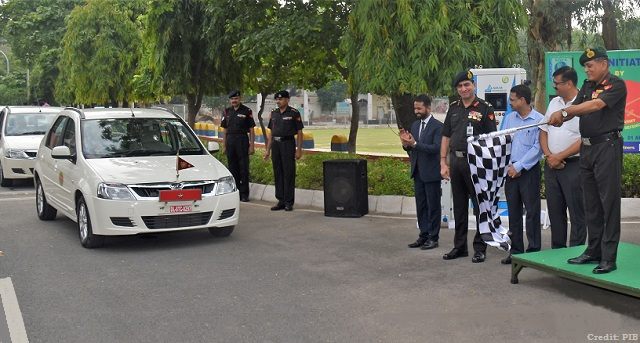car: (24, 106, 241, 238), (4, 97, 95, 181)
